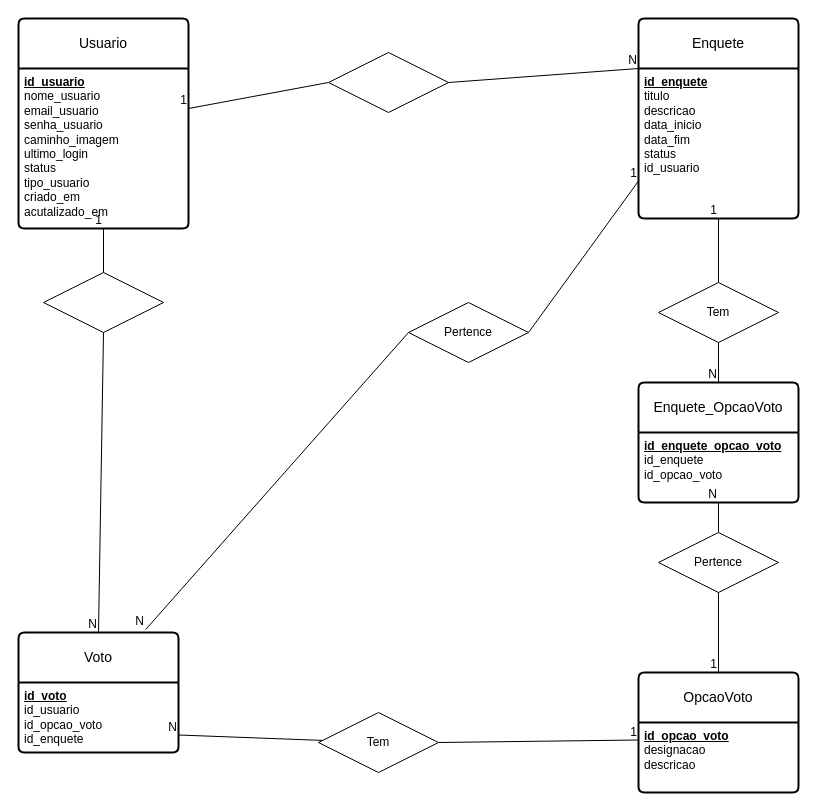
Image size: 816x810. Some labels were removed from this diagram. Each missing label, with the centre of its shape:
cria: [388,82]
Realiza: [103,302]
